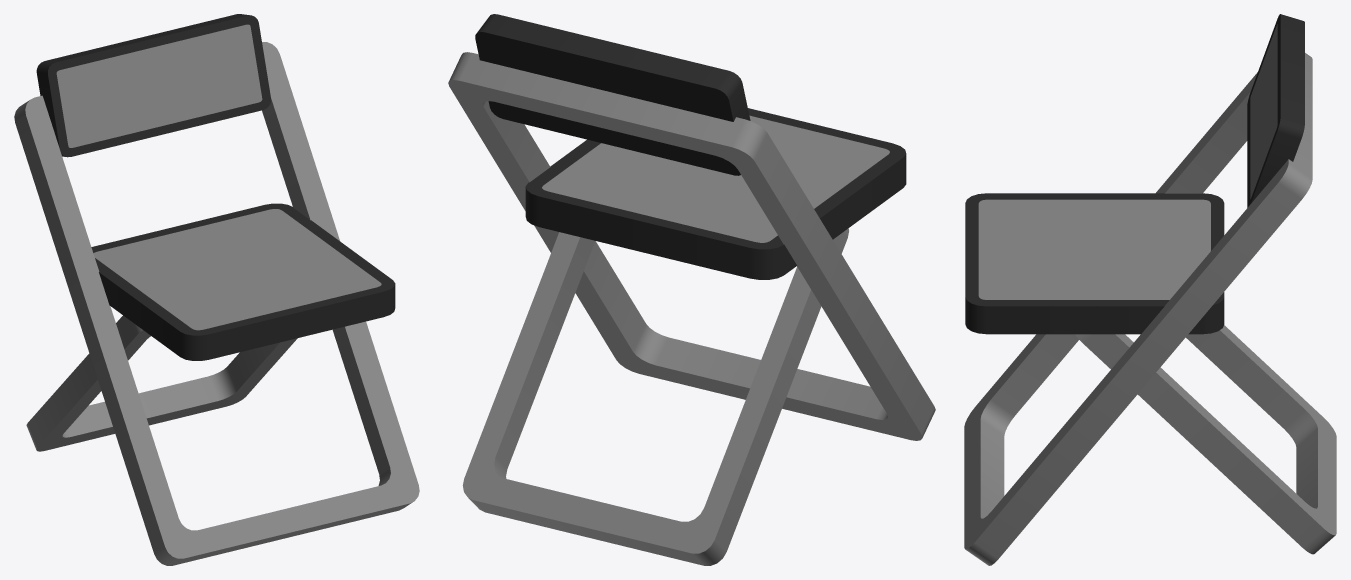
The model's file is Stool Black.fbx.
3 renders of one model, left to right at view 1: azimuth 30°, elevation 25°; view 2: azimuth 150°, elevation 25°; view 3: azimuth 270°, elevation 25°, orthographic. The views are drawn at different scales.
Visible parts, largest first — view 1: Stool Black; view 2: Stool Black; view 3: Stool Black.
Part boxes in pixels (x1,y1,x2,y2): Stool Black: (14,14,419,565); Stool Black: (448,14,935,565); Stool Black: (964,14,1336,565).
Size of the model in its own units: 103 by 156 by 120.
